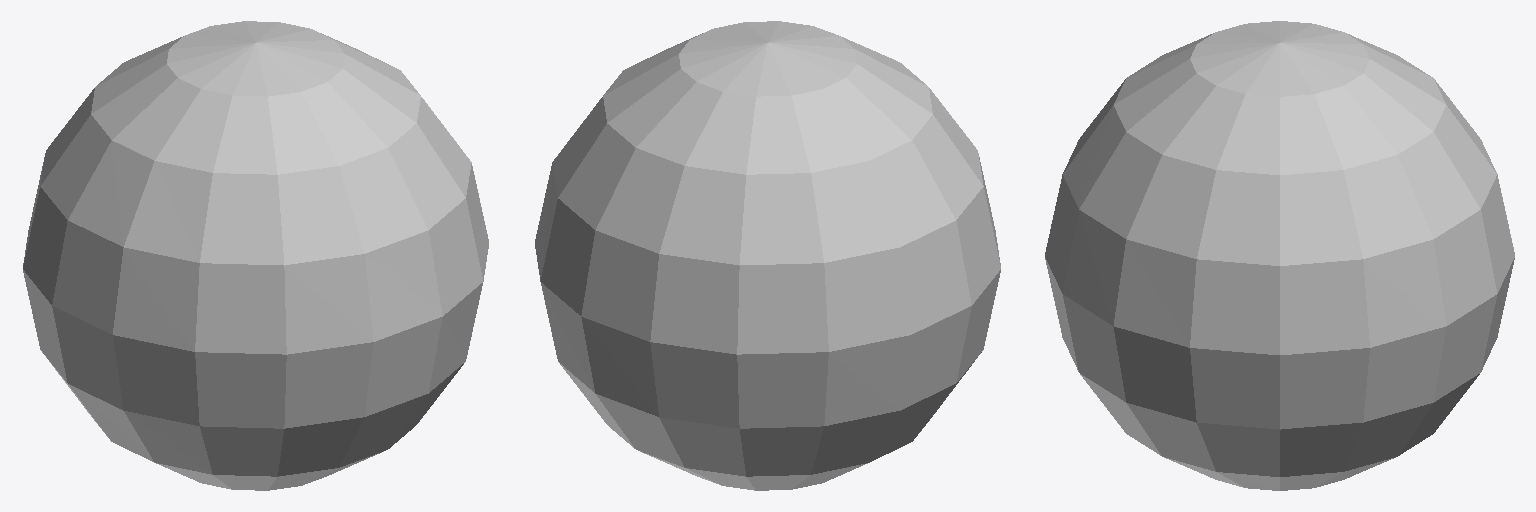
Rendered from light.obj.
The picture shows the model from 3 angles: view 1: azimuth 30°, elevation 25°; view 2: azimuth 150°, elevation 25°; view 3: azimuth 270°, elevation 25°; orthographic projection.
Visible parts, largest first — view 1: light; view 2: light; view 3: light.
Boxes of the visible parts, box(x1,y1,x2,y2) form: light: box(23, 21, 488, 490); light: box(535, 21, 1000, 490); light: box(1045, 21, 1514, 490).
Size of the model in its own units: 0.4428 by 0.4428 by 0.4428.